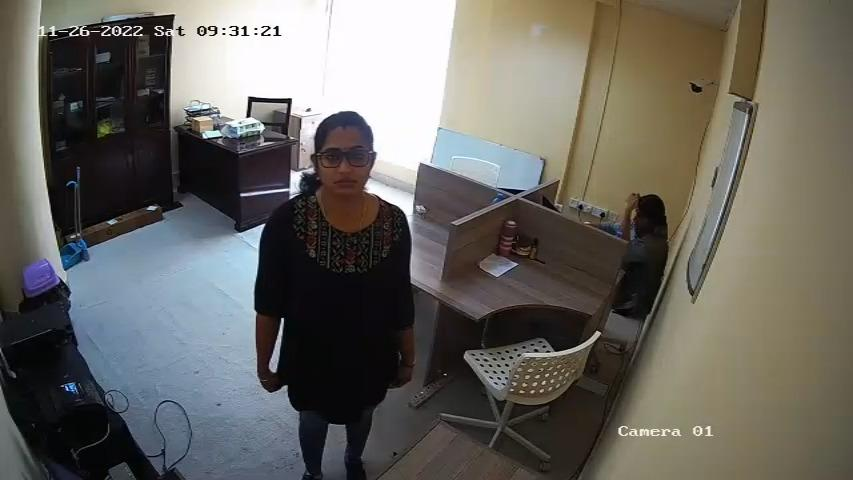no_apron: (300, 196, 387, 395)
